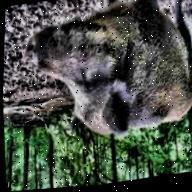boar: (15, 0, 192, 152)
